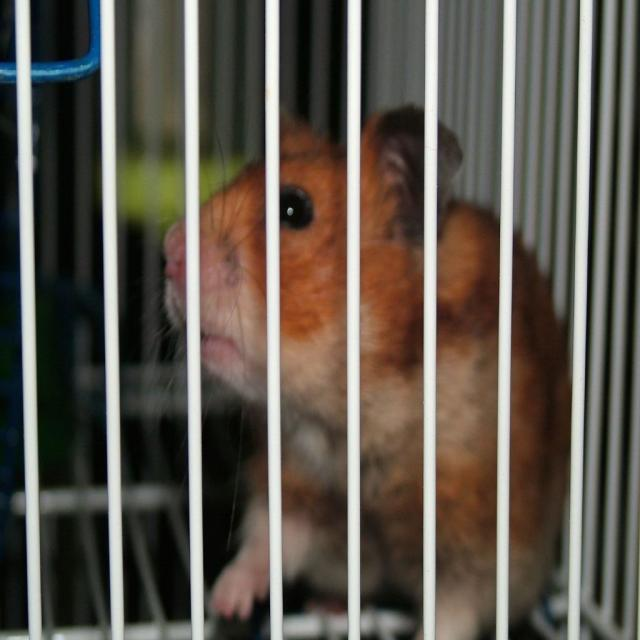rat: (160, 99, 574, 640)
